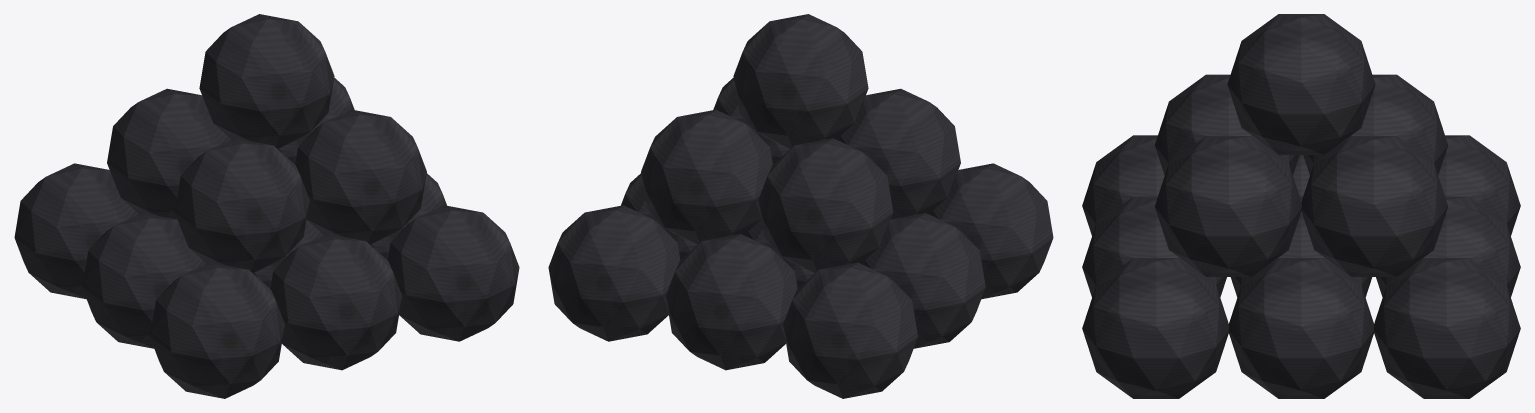
Rendered from prop_kogels.glb.
3 views of the same model, side by side, from view 1: azimuth 30°, elevation 25°; view 2: azimuth 150°, elevation 25°; view 3: azimuth 270°, elevation 25° (orthographic). The views are drawn at different scales.
Parts seen in each view (by area): view 1: prop_kogels; view 2: prop_kogels; view 3: prop_kogels.
Part boxes in pixels (<box>): prop_kogels: <box>14,14,519,398</box>; prop_kogels: <box>548,14,1053,398</box>; prop_kogels: <box>1082,14,1520,398</box>.
Bounding box in the file's own units: 0.4075 × 0.3304 × 0.4144.
Materials: 1 (1 with a texture image).
